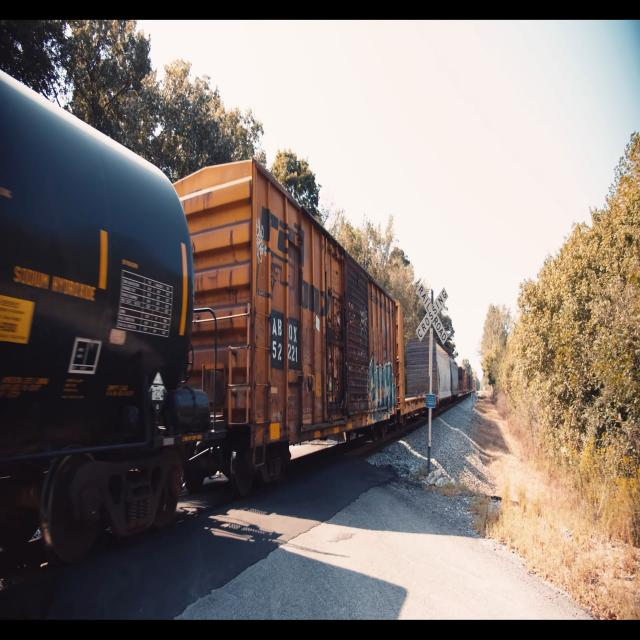boxcar: (173, 142, 396, 491)
tank: (3, 38, 214, 588)
